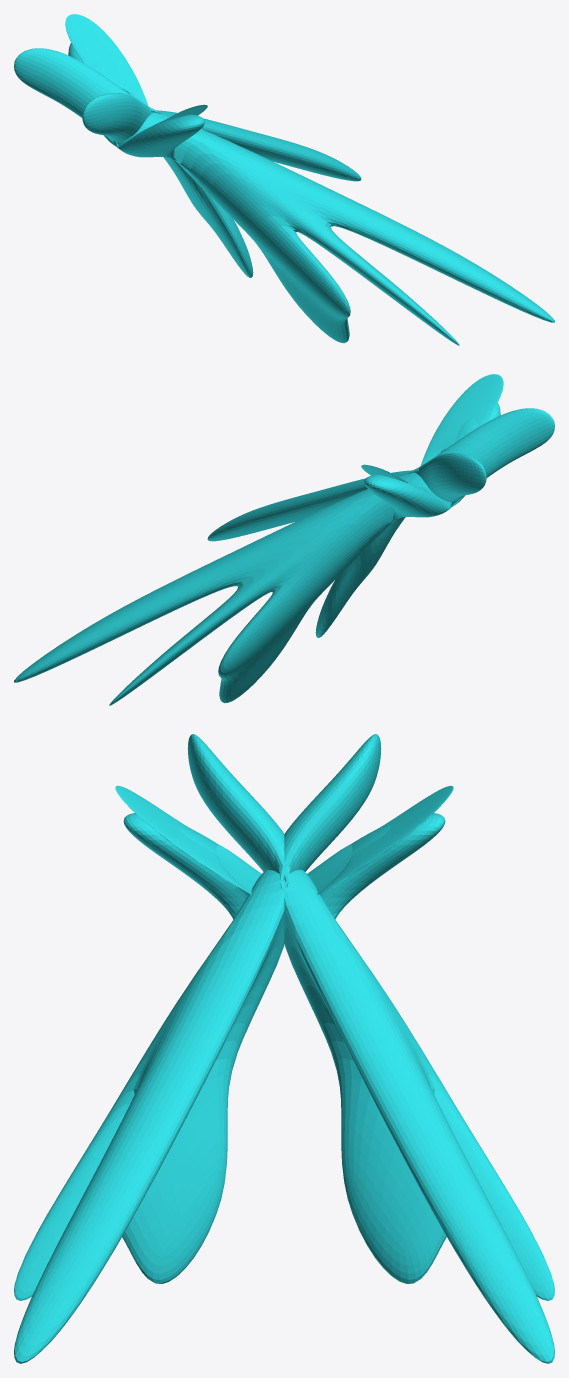
Rendered from Creaturestruc7.obj.
3 renders of one model, top to bottom at view 1: azimuth 30°, elevation 25°; view 2: azimuth 150°, elevation 25°; view 3: azimuth 270°, elevation 25°, orthographic. The views are drawn at different scales.
Visible parts, largest first — view 1: Cube_Cube.008; view 2: Cube_Cube.008; view 3: Cube_Cube.008.
Part boxes in pixels (x1,y1,x2,y2): Cube_Cube.008: [14, 14, 554, 345]; Cube_Cube.008: [14, 374, 554, 705]; Cube_Cube.008: [14, 734, 554, 1363].
Bounding box in the file's own units: 18.93 × 12.94 × 16.05.
